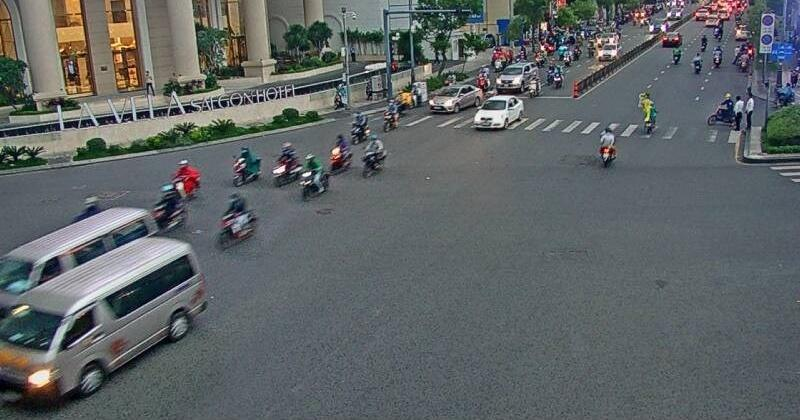xe hoi: (473, 95, 523, 129), (429, 84, 482, 113)
xe may: (300, 154, 330, 201), (232, 145, 261, 187), (598, 126, 617, 166), (382, 99, 401, 133)
xe van: (0, 239, 207, 406), (0, 206, 158, 307)
